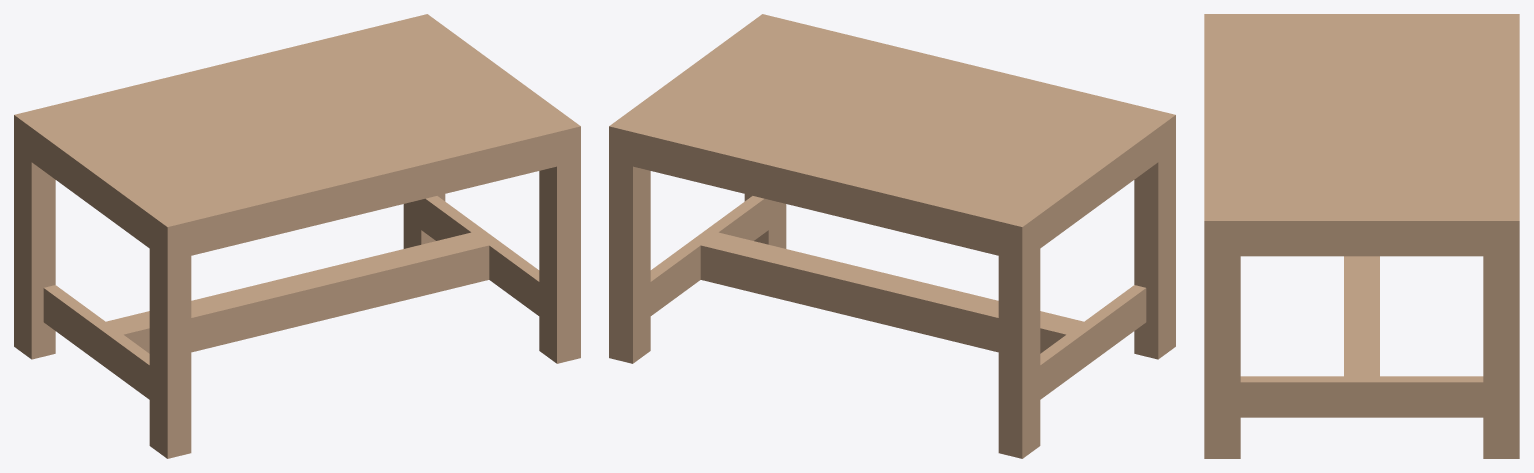
The model's file is table-dining.glb.
3 views of the same model, side by side, from view 1: azimuth 30°, elevation 25°; view 2: azimuth 150°, elevation 25°; view 3: azimuth 270°, elevation 25° (orthographic). The views are drawn at different scales.
Parts seen in each view (by area): view 1: table-dining; view 2: table-dining; view 3: table-dining.
Part boxes in pixels (x1=…): table-dining: x1=14, y1=14, x2=580, y2=458; table-dining: x1=609, y1=14, x2=1175, y2=458; table-dining: x1=1204, y1=14, x2=1519, y2=458.
Size of the model in its own units: 1.4 by 0.75 by 0.9.
